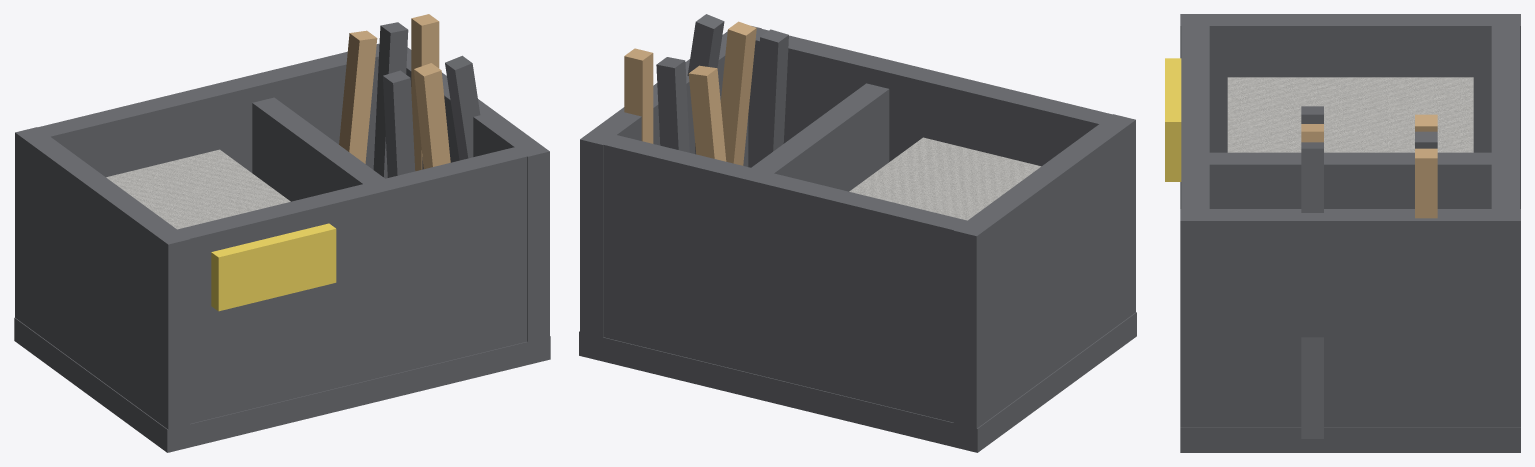
File: street-food-market-and-food-trucks-napkin-and-cutlery--859f2207__34319.glb
3 views of the same model, side by side, from view 1: azimuth 30°, elevation 25°; view 2: azimuth 150°, elevation 25°; view 3: azimuth 270°, elevation 25° (orthographic). The views are drawn at different scales.
Visible parts, largest first — view 1: napkin-and-cutlery-caddy-charcoal, napkin-and-cutlery-caddy-timber, napkin-and-cutlery-caddy-concrete, napkin-and-cutlery-caddy-canary; view 2: napkin-and-cutlery-caddy-charcoal, napkin-and-cutlery-caddy-concrete, napkin-and-cutlery-caddy-timber; view 3: napkin-and-cutlery-caddy-charcoal, napkin-and-cutlery-caddy-concrete, napkin-and-cutlery-caddy-timber, napkin-and-cutlery-caddy-canary.
Part boxes in pixels (bbox=[...]): napkin-and-cutlery-caddy-charcoal: bbox=[14, 22, 550, 452]; napkin-and-cutlery-caddy-timber: bbox=[339, 14, 450, 171]; napkin-and-cutlery-caddy-concrete: bbox=[106, 149, 290, 229]; napkin-and-cutlery-caddy-canary: bbox=[211, 223, 336, 311]; napkin-and-cutlery-caddy-charcoal: bbox=[579, 14, 1136, 452]; napkin-and-cutlery-caddy-concrete: bbox=[849, 137, 1041, 220]; napkin-and-cutlery-caddy-timber: bbox=[624, 21, 756, 165]; napkin-and-cutlery-caddy-charcoal: bbox=[1180, 14, 1520, 452]; napkin-and-cutlery-caddy-concrete: bbox=[1227, 77, 1473, 152]; napkin-and-cutlery-caddy-timber: bbox=[1301, 114, 1437, 218]; napkin-and-cutlery-caddy-canary: bbox=[1165, 58, 1181, 181].
Size of the model in its own units: 0.2679 by 0.1702 by 0.188.
4 materials, 1 textured.
